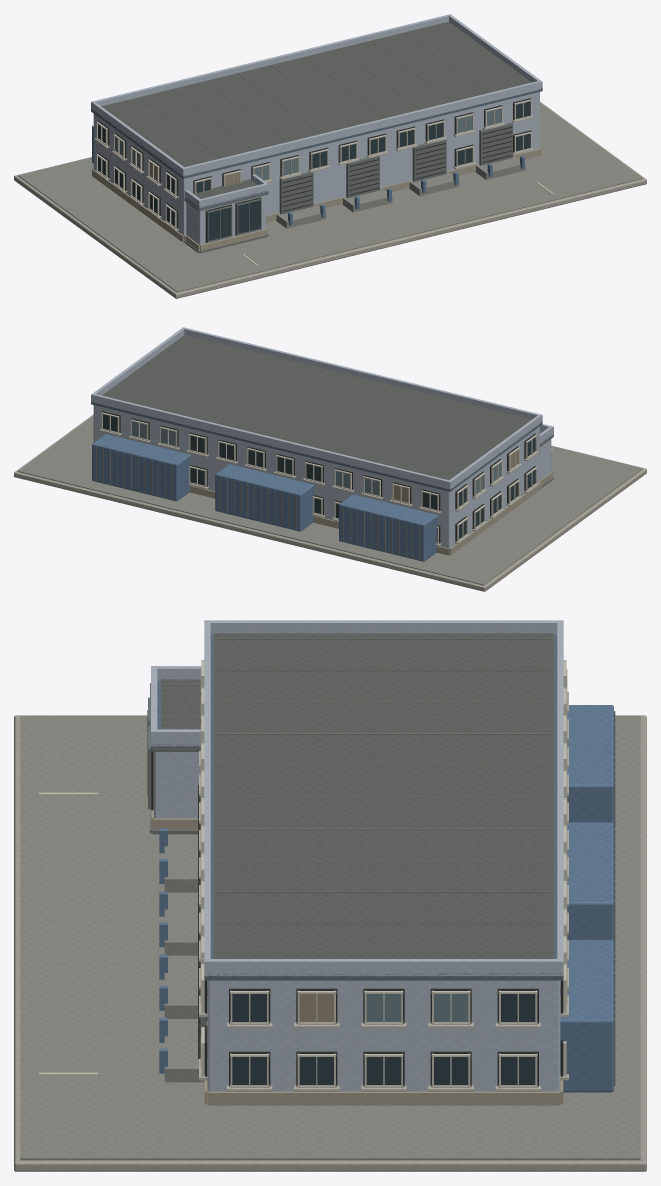
File: EXP_FACTORY_LOGISTICS.glb
3 renders of one model, top to bottom at view 1: azimuth 30°, elevation 25°; view 2: azimuth 150°, elevation 25°; view 3: azimuth 270°, elevation 25°, orthographic. The views are drawn at different scales.
Parts seen in each view (by area): view 1: EXP_FACTORY_LOGISTICS_Visual; view 2: EXP_FACTORY_LOGISTICS_Visual; view 3: EXP_FACTORY_LOGISTICS_Visual.
Boxes of the visible parts, x1=… form: EXP_FACTORY_LOGISTICS_Visual: x1=14, y1=14, x2=646, y2=298; EXP_FACTORY_LOGISTICS_Visual: x1=14, y1=327, x2=646, y2=591; EXP_FACTORY_LOGISTICS_Visual: x1=14, y1=620, x2=646, y2=1171.
Size of what is drawn, in the model's own units: 9.92 by 1.63 by 5.92.
15 materials, 8 textured.
